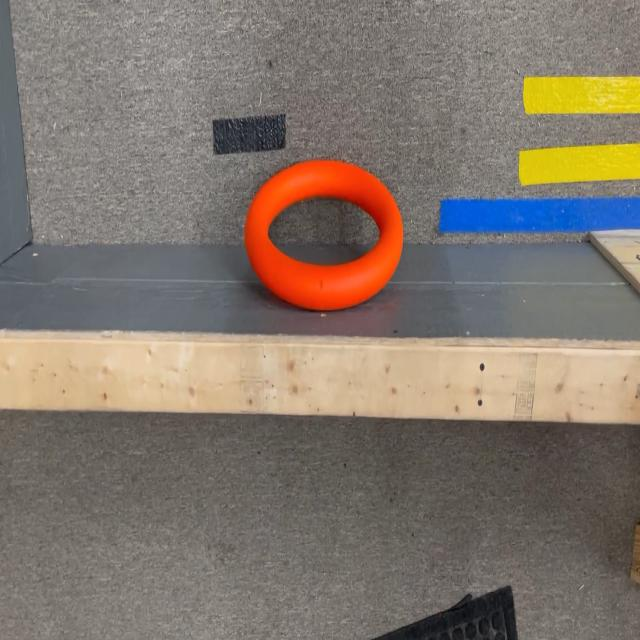note: (245, 159, 403, 308)
